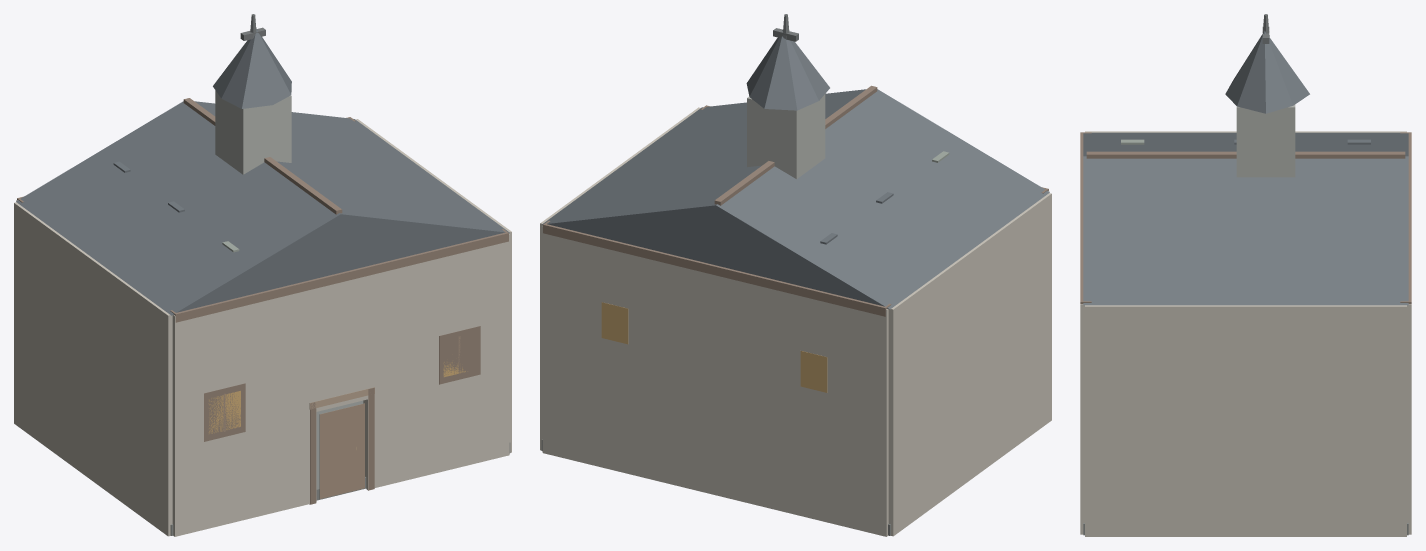
File: morning_chapel_inhabited.glb
The picture shows the model from 3 angles, left to right: view 1: azimuth 30°, elevation 25°; view 2: azimuth 150°, elevation 25°; view 3: azimuth 270°, elevation 25°; orthographic projection. The views are drawn at different scales.
Visible parts, largest first — view 1: morning_chapel_mat_01, morning_chapel_mat_07, morning_chapel_mat_02, morning_chapel_mat_09, morning_chapel_mat_04, morning_chapel_mat_06, morning_chapel_mat_00; view 2: morning_chapel_mat_01, morning_chapel_mat_07, morning_chapel_mat_09, morning_chapel_mat_02, morning_chapel_mat_06; view 3: morning_chapel_mat_01, morning_chapel_mat_07, morning_chapel_mat_09, morning_chapel_mat_02.
Boxes of the visible parts, left/top/right/bottom form: morning_chapel_mat_01: left=14, top=119, right=511, bottom=536; morning_chapel_mat_07: left=16, top=28, right=509, bottom=315; morning_chapel_mat_02: left=17, top=98, right=508, bottom=504; morning_chapel_mat_09: left=215, top=90, right=291, bottom=174; morning_chapel_mat_04: left=223, top=336, right=460, bottom=498; morning_chapel_mat_06: left=208, top=362, right=467, bottom=433; morning_chapel_mat_00: left=170, top=400, right=510, bottom=535; morning_chapel_mat_01: left=540, top=107, right=1051, bottom=536; morning_chapel_mat_07: left=542, top=30, right=1049, bottom=309; morning_chapel_mat_09: left=747, top=94, right=825, bottom=179; morning_chapel_mat_02: left=543, top=85, right=1048, bottom=316; morning_chapel_mat_06: left=601, top=302, right=827, bottom=392; morning_chapel_mat_01: left=1080, top=131, right=1411, bottom=536; morning_chapel_mat_07: left=1083, top=31, right=1408, bottom=305; morning_chapel_mat_09: left=1236, top=104, right=1295, bottom=177; morning_chapel_mat_02: left=1080, top=132, right=1411, bottom=303.
Size of the model in its own units: 4.97 by 5.76 by 3.98.
